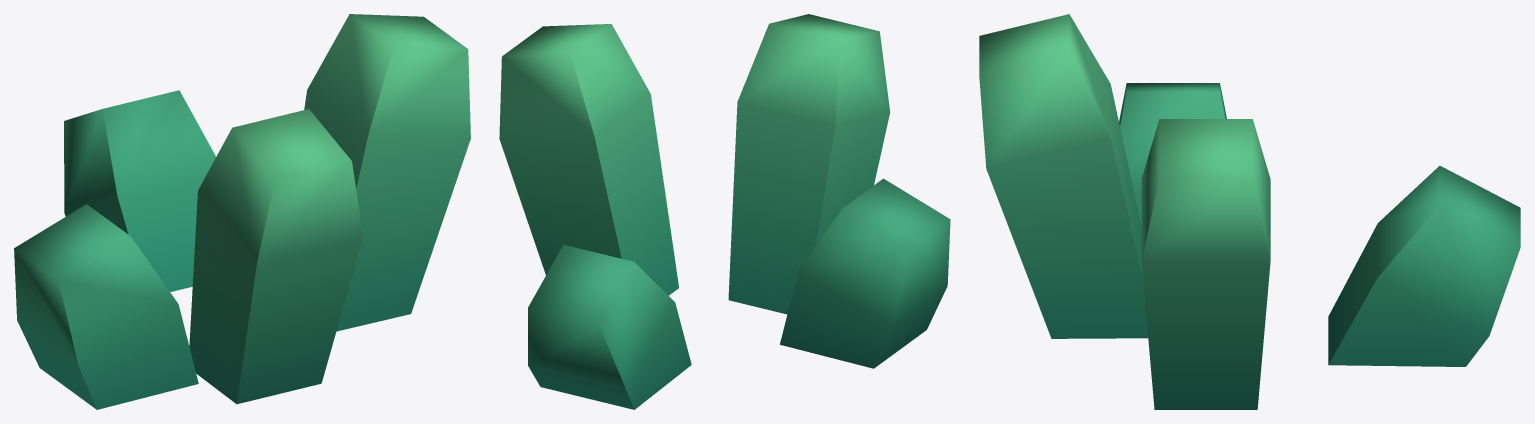
File: grass-tuft.glb
3 renders of one model, left to right at view 1: azimuth 30°, elevation 25°; view 2: azimuth 150°, elevation 25°; view 3: azimuth 270°, elevation 25°, orthographic. The views are drawn at different scales.
Visible parts, largest first — view 1: grass; view 2: grass; view 3: grass.
Part boxes in pixels (box(x1,y1,x2,y2)): grass: box(14, 14, 470, 409); grass: box(499, 14, 950, 409); grass: box(979, 14, 1520, 409).
Bounding box in the file's own units: 0.5783 × 0.35 × 0.6061.
1 material, 1 textured.
